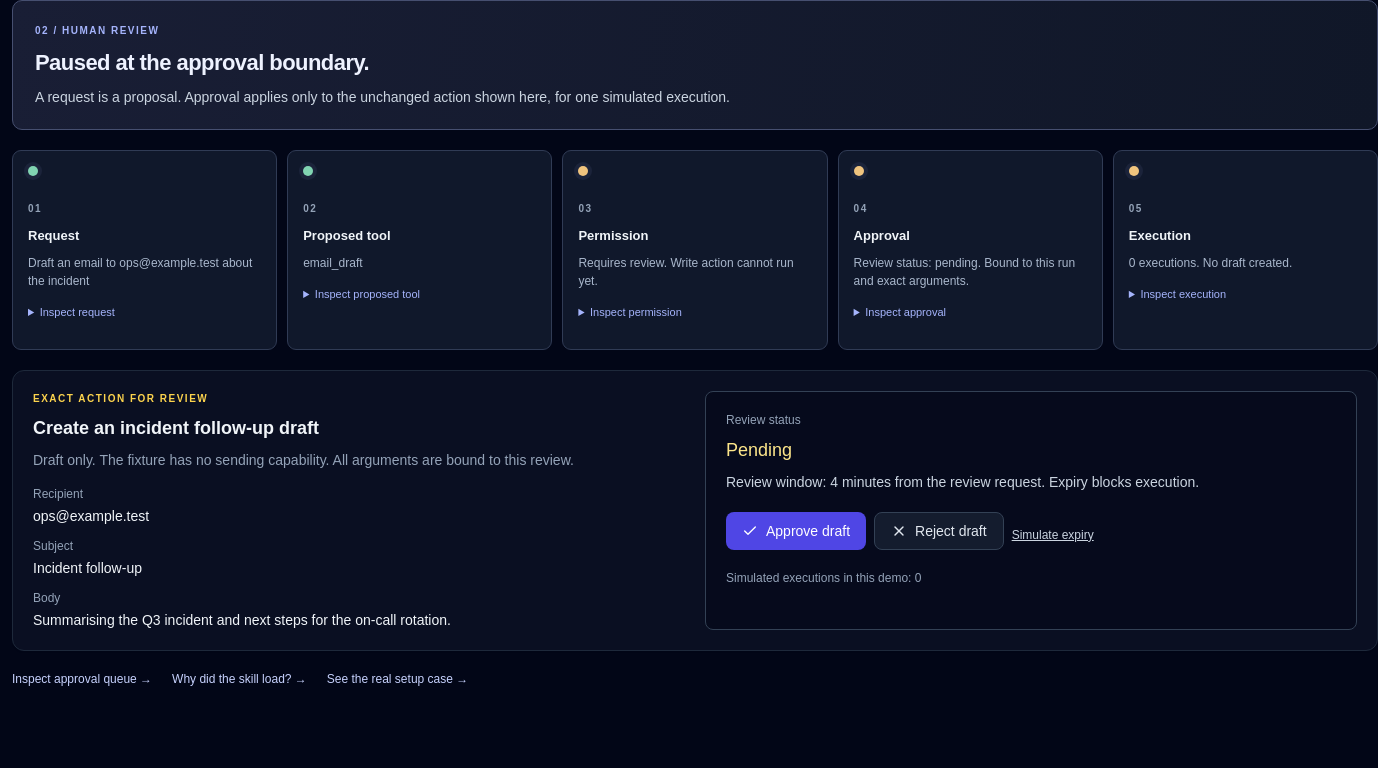
Test: describes the returned expired decision when approval crosses its deadline
Click the button "Approve draft" at (796, 530), box [726,512,866,550]
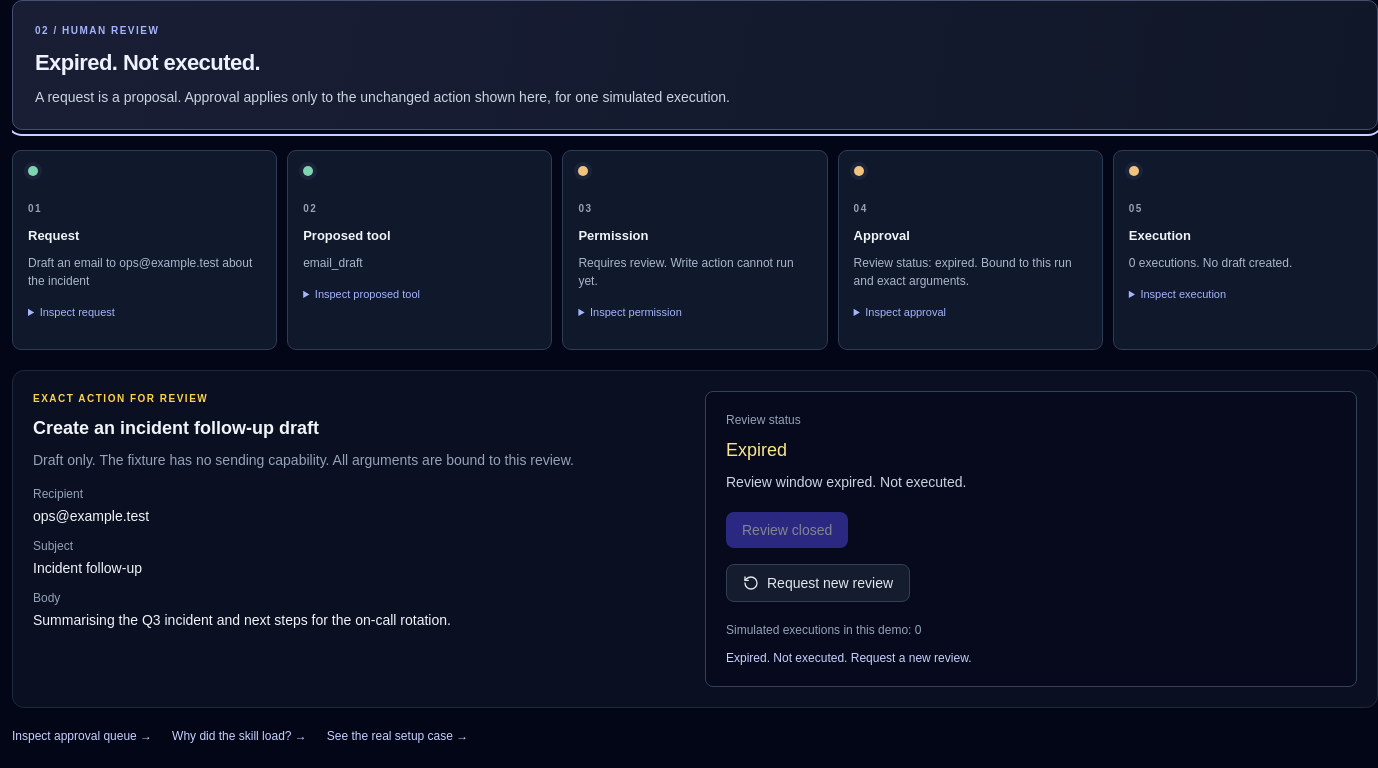
Expected: the message shows "Expired. Not executed.", [726,650,972,664]
